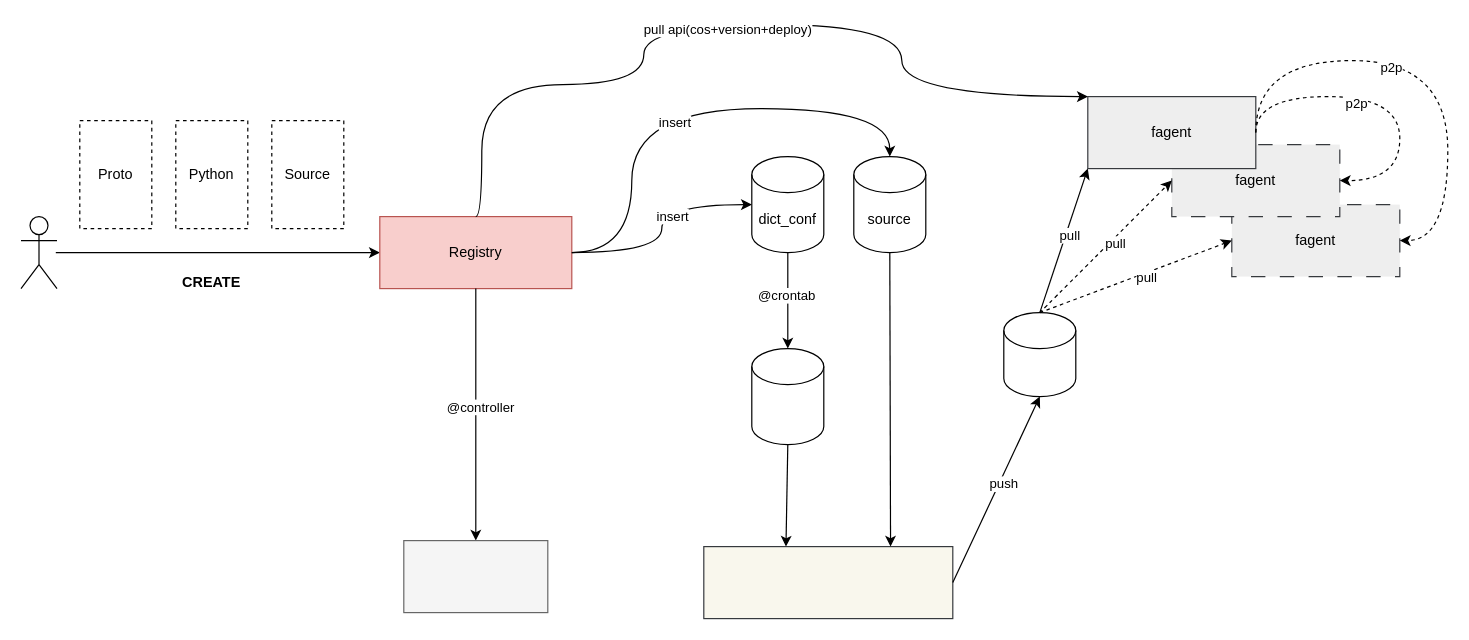
This 1469x640 diagram has some shape labels left out. The shapes that lost their labels are listed below. From the top down, each one's centre as x and y in pixels, then its label:
At [38,252]: "Actor".
At [1039,354]: "cos".
At [787,396]: "task".
At [475,576]: "Web(list+debug)".
At [828,582]: "Builder".
